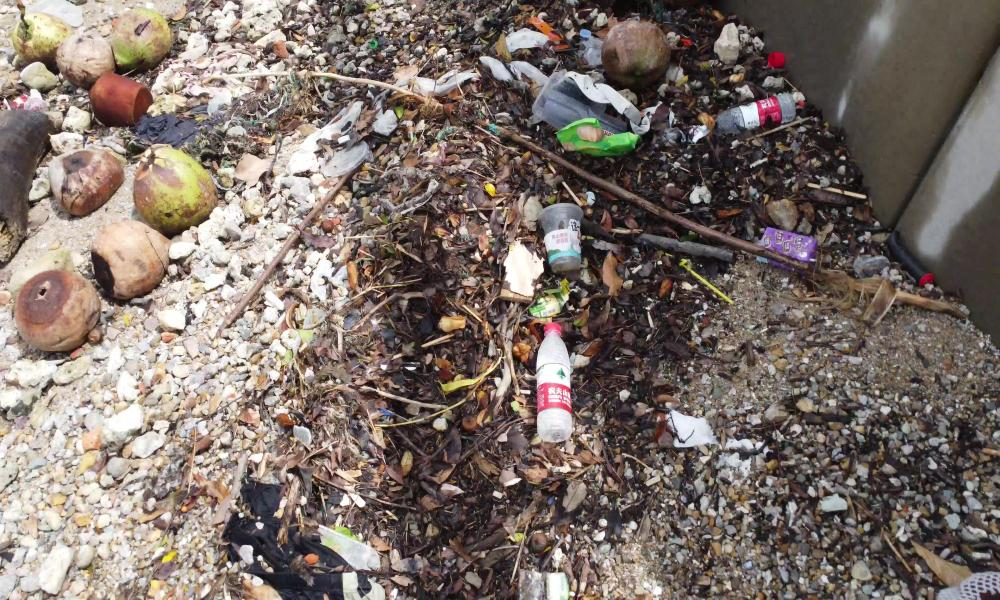plastic bag: (527, 68, 649, 170)
plastic bottle: (528, 315, 581, 453), (703, 90, 800, 134)
plastic container: (538, 197, 591, 277)
